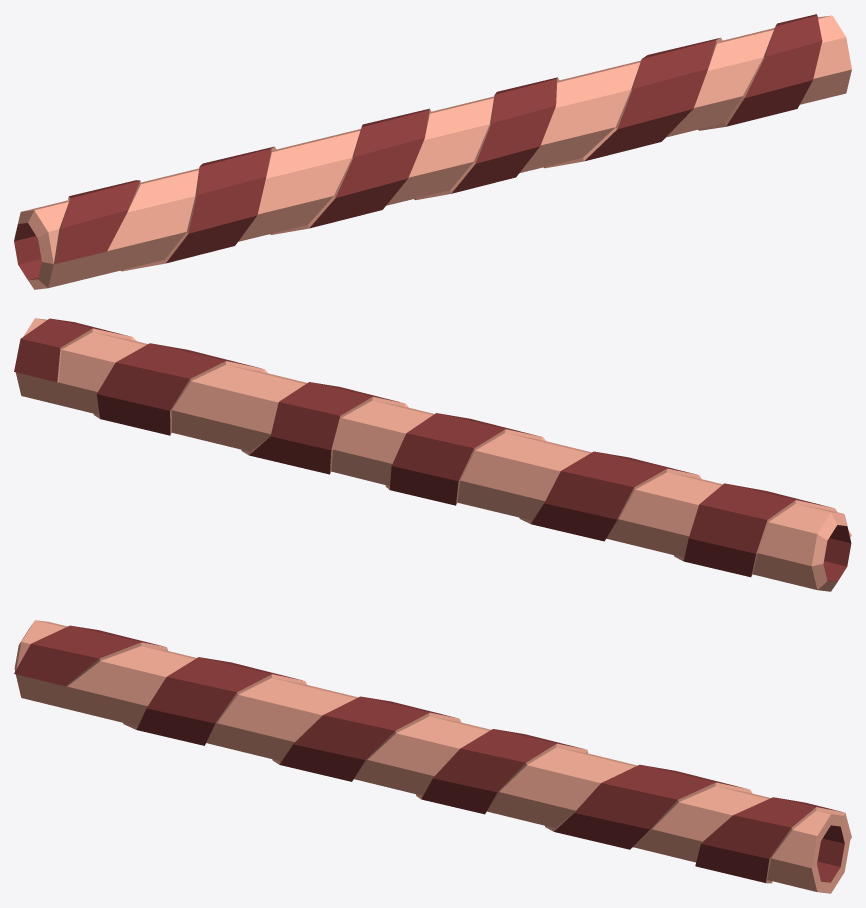
Rendered from stick-o choco.fbx.
3 renders of one model, top to bottom at view 1: azimuth 30°, elevation 25°; view 2: azimuth 150°, elevation 25°; view 3: azimuth 330°, elevation 25°, orthographic.
Parts seen in each view (by area): view 1: Cylinder.001; view 2: Cylinder.001; view 3: Cylinder.001.
Part boxes in pixels (x1,y1,x2,y2): Cylinder.001: (14, 14, 851, 289); Cylinder.001: (14, 318, 851, 591); Cylinder.001: (14, 620, 851, 893).
Bounding box in the file's own units: 3.65 × 0.3776 × 0.3326.
